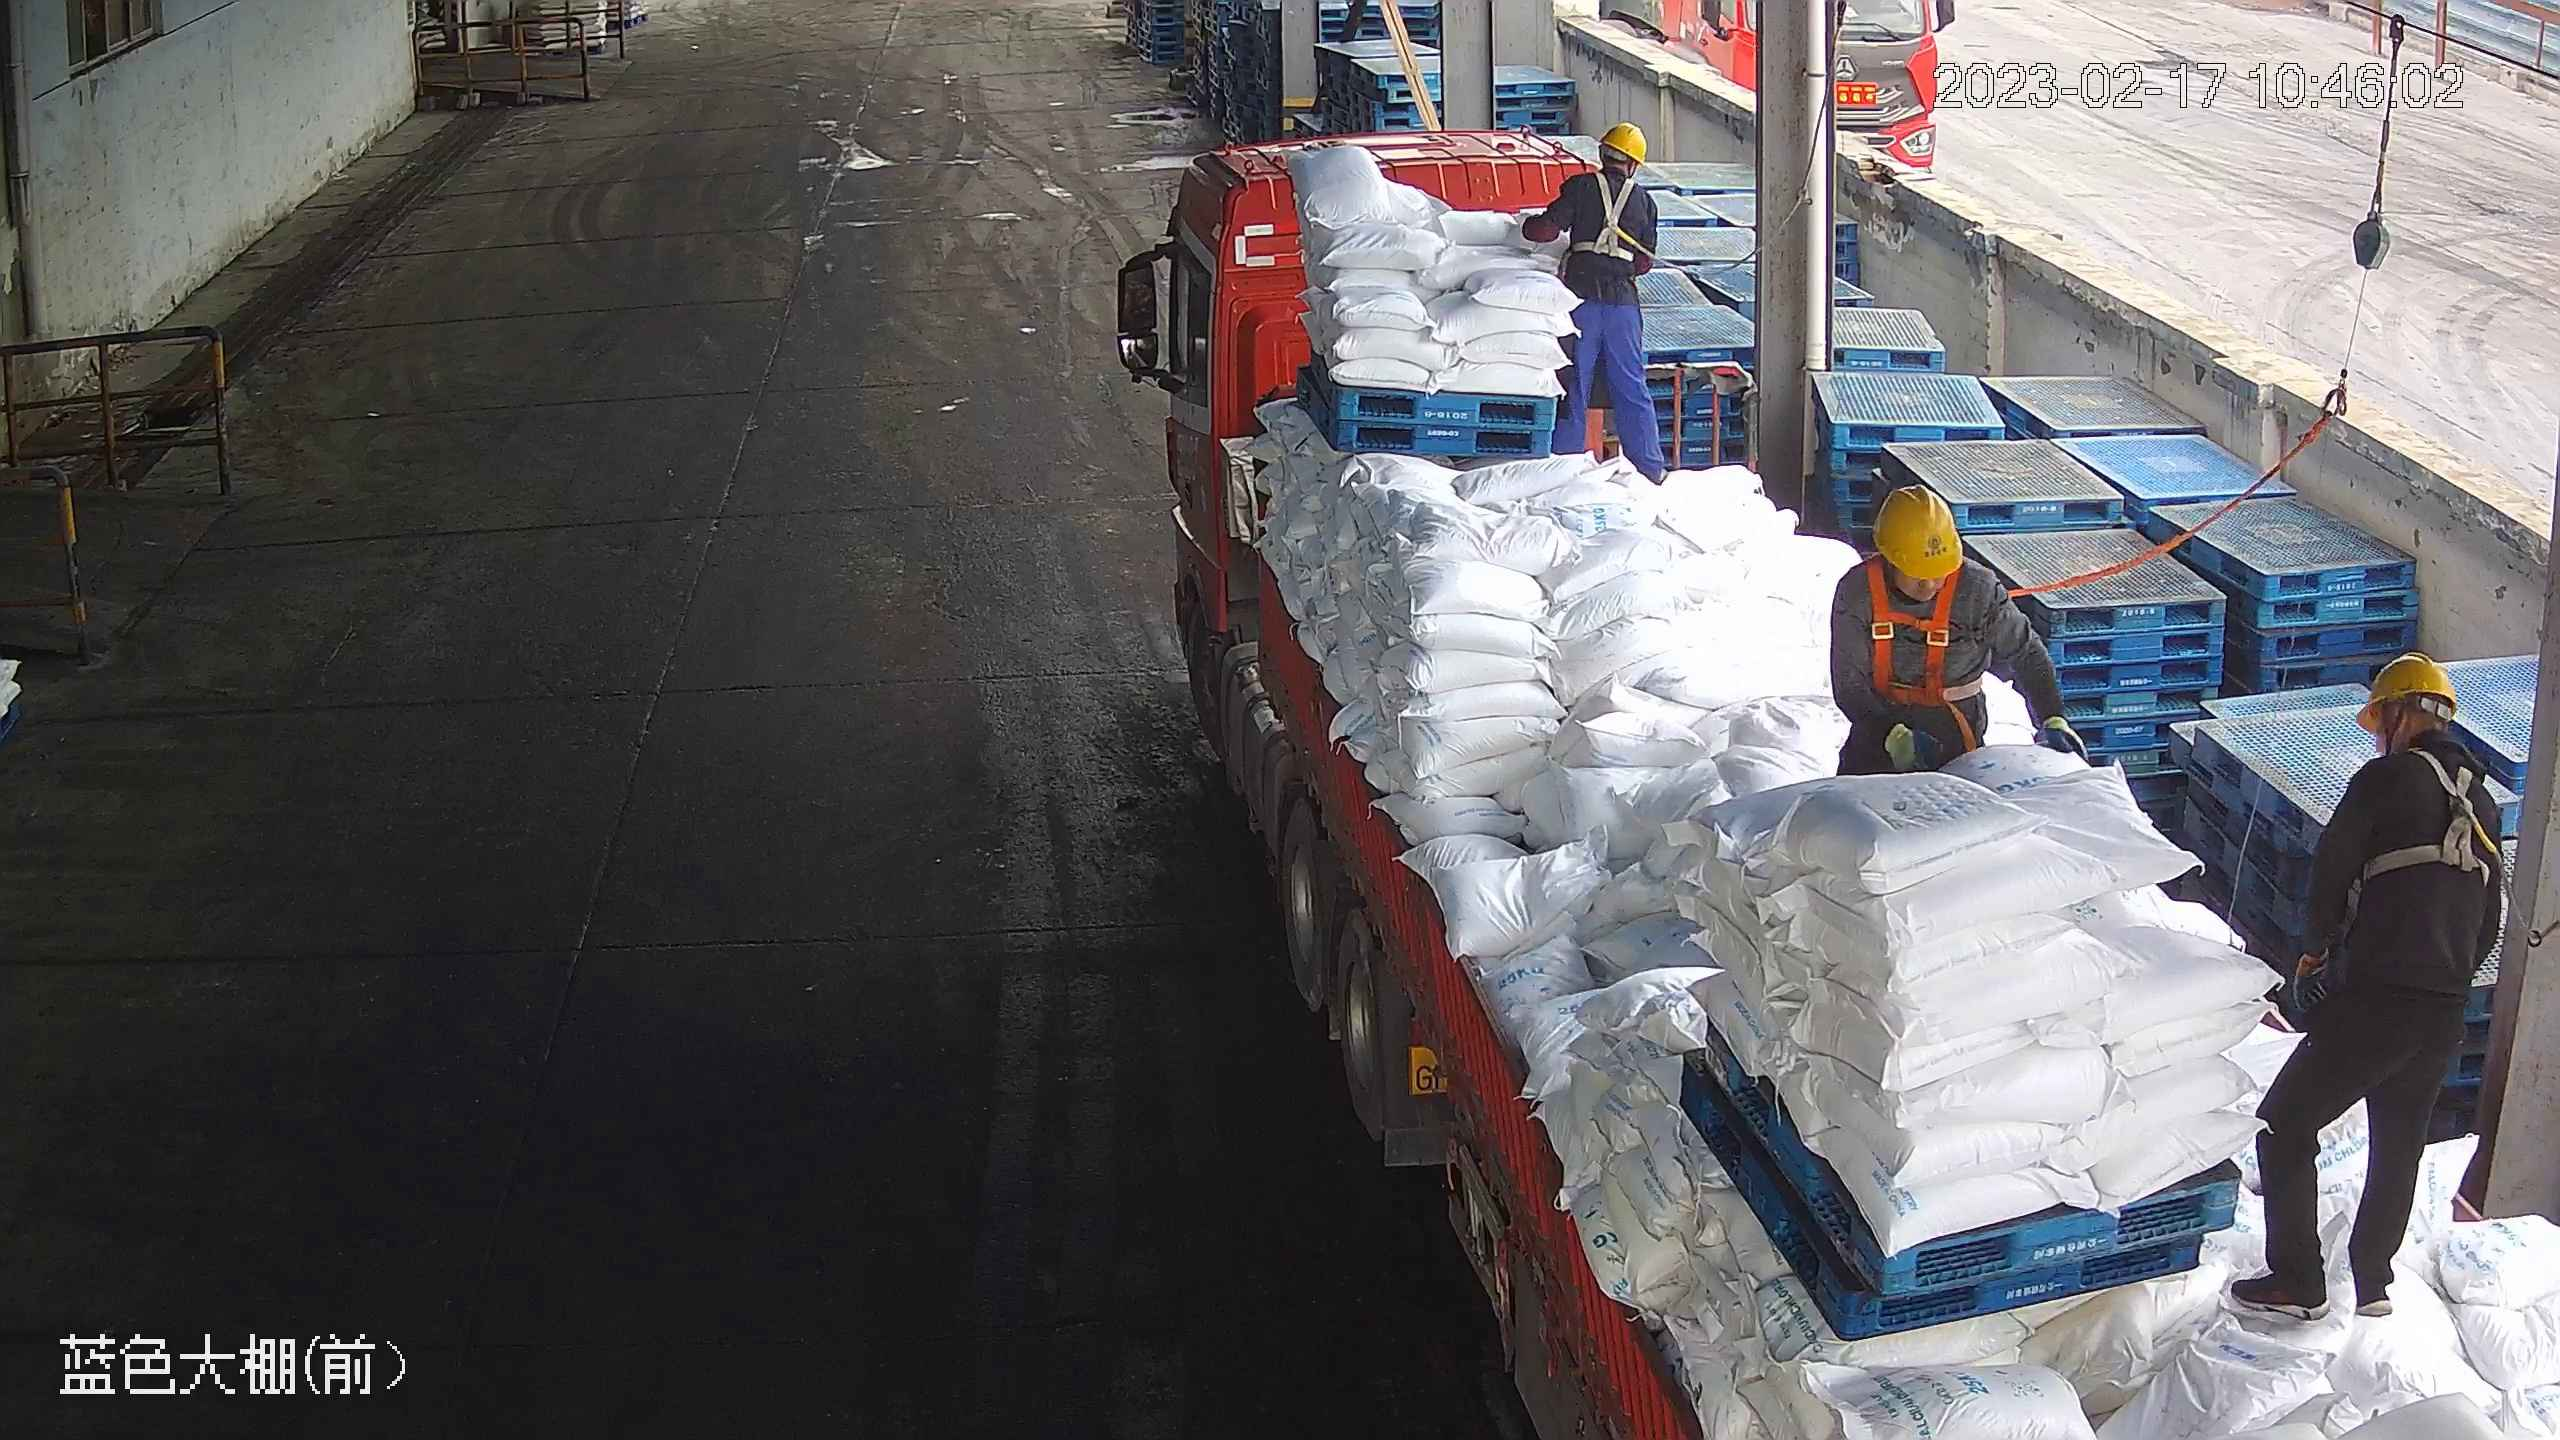belt: (1840, 561, 2035, 727), (2345, 747, 2527, 903), (1554, 174, 1662, 276)
head: (2291, 654, 2508, 884), (1840, 484, 2022, 676), (1537, 122, 1654, 244)
helmet: (2352, 654, 2464, 739), (1871, 483, 1966, 581), (1598, 120, 1651, 167)
people: (2230, 642, 2503, 1327), (1825, 483, 2088, 789), (1522, 123, 1678, 488)
truck: (1112, 115, 2560, 1440)
